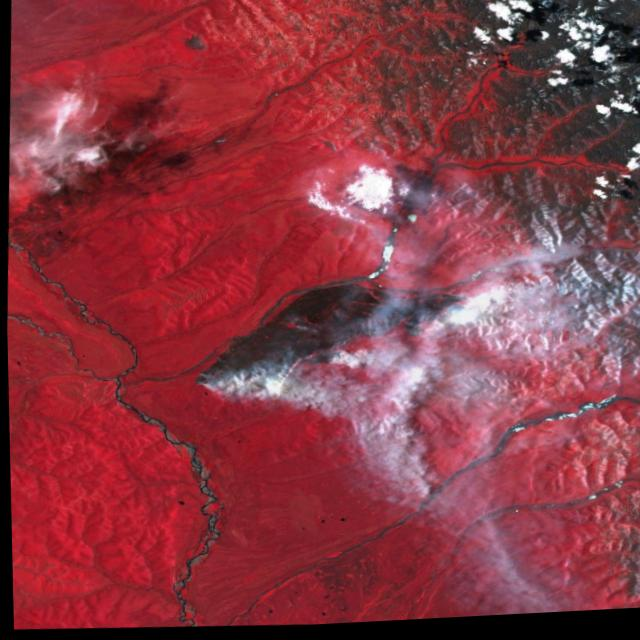fire: (187, 342, 348, 404), (396, 287, 474, 345)
